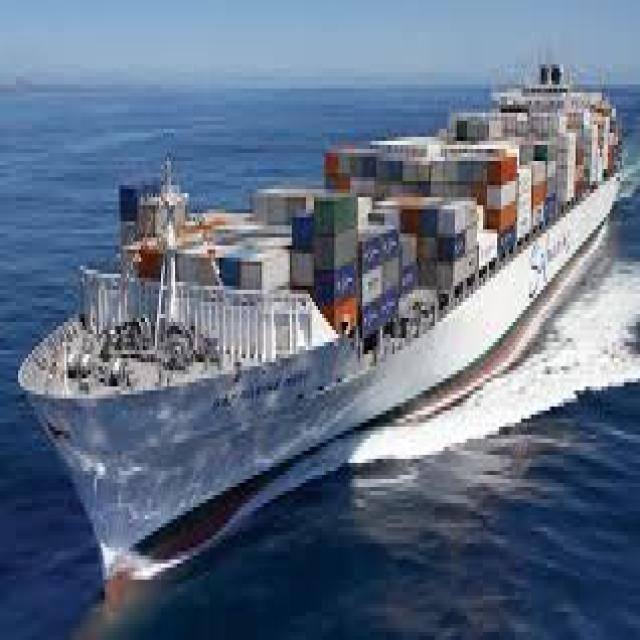cargoship: (17, 61, 623, 561)
